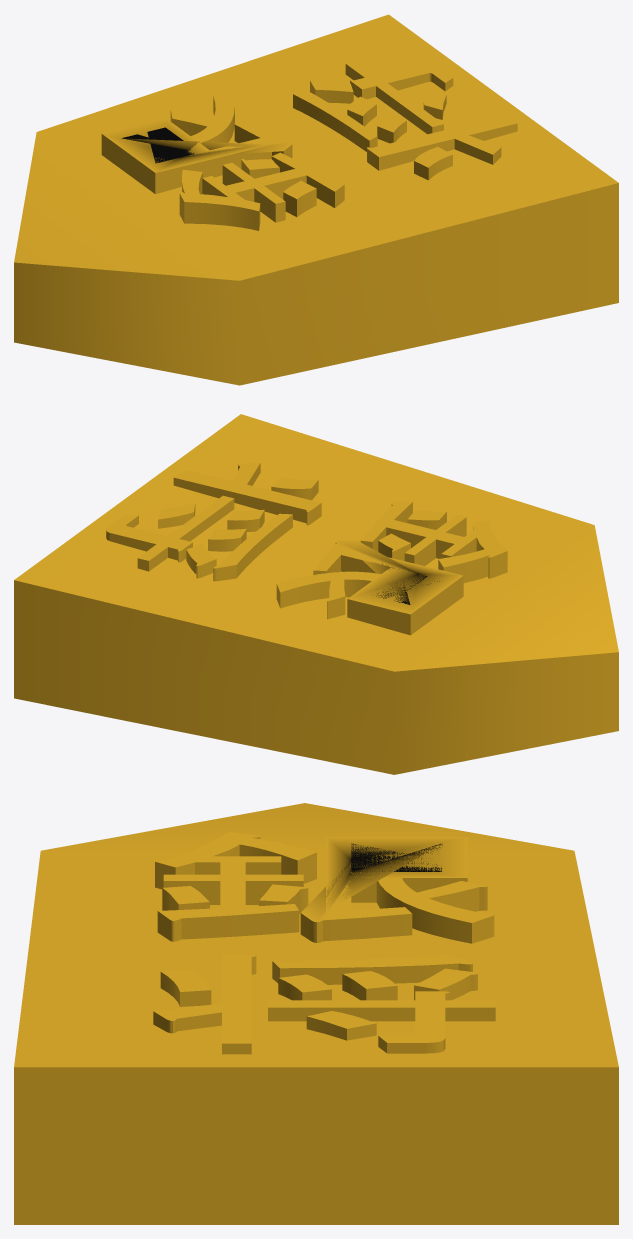
Rendered from silver_general.fbx.
The picture shows the model from 3 angles, top to bottom: view 1: azimuth 30°, elevation 25°; view 2: azimuth 150°, elevation 25°; view 3: azimuth 270°, elevation 25°; orthographic projection. The views are drawn at different scales.
Parts seen in each view (by area): view 1: pCube1, typeMesh1; view 2: pCube1, typeMesh1; view 3: pCube1, typeMesh1.
Part boxes in pixels (x1=…): pCube1: x1=14, y1=14, x2=618, y2=385; typeMesh1: x1=101, y1=61, x2=517, y2=230; pCube1: x1=14, y1=414, x2=618, y2=774; typeMesh1: x1=106, y1=463, x2=507, y2=635; pCube1: x1=14, y1=803, x2=618, y2=1224; typeMesh1: x1=153, y1=832, x2=495, y2=1054.
Size of the model in its own units: 6.47 by 1.59 by 5.22.
